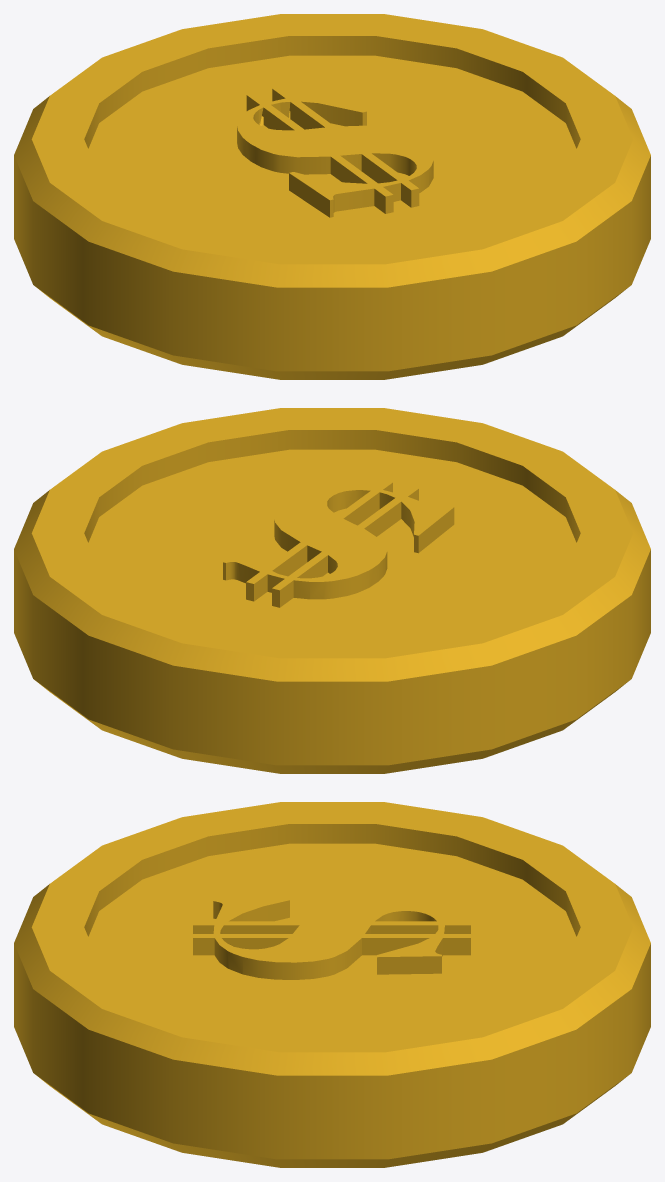
Rendered from Coin.glb.
3 views of the same model, one above another, from view 1: azimuth 30°, elevation 25°; view 2: azimuth 150°, elevation 25°; view 3: azimuth 270°, elevation 25° (orthographic).
Visible parts, largest first — view 1: Coin_New; view 2: Coin_New; view 3: Coin_New.
Part boxes in pixels (bbox=[...]): Coin_New: bbox=[14, 14, 650, 379]; Coin_New: bbox=[14, 408, 650, 773]; Coin_New: bbox=[14, 802, 650, 1167].
Size of the model in its own units: 1.97 by 0.4 by 2.
